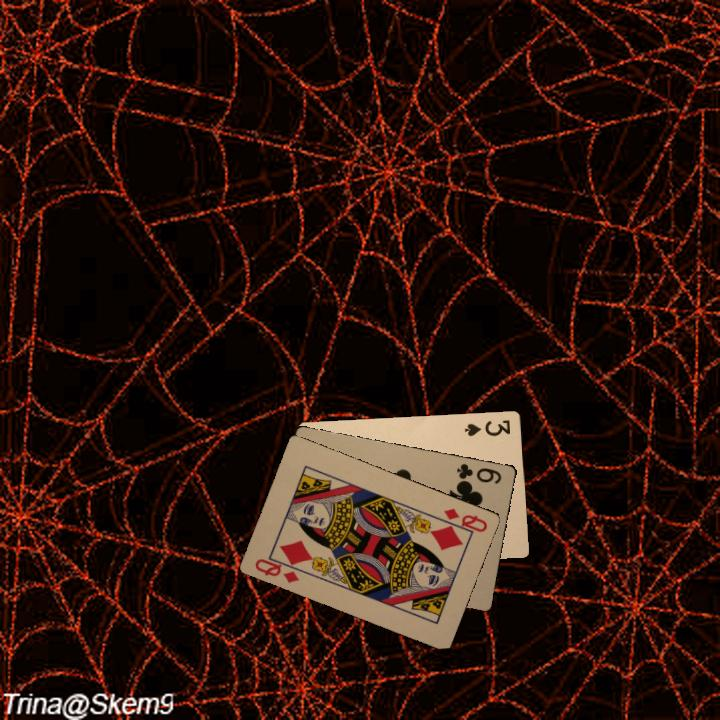3s: (461, 416, 513, 439)
6c: (452, 459, 504, 487)
Qd: (251, 551, 304, 585), (434, 504, 490, 535)
